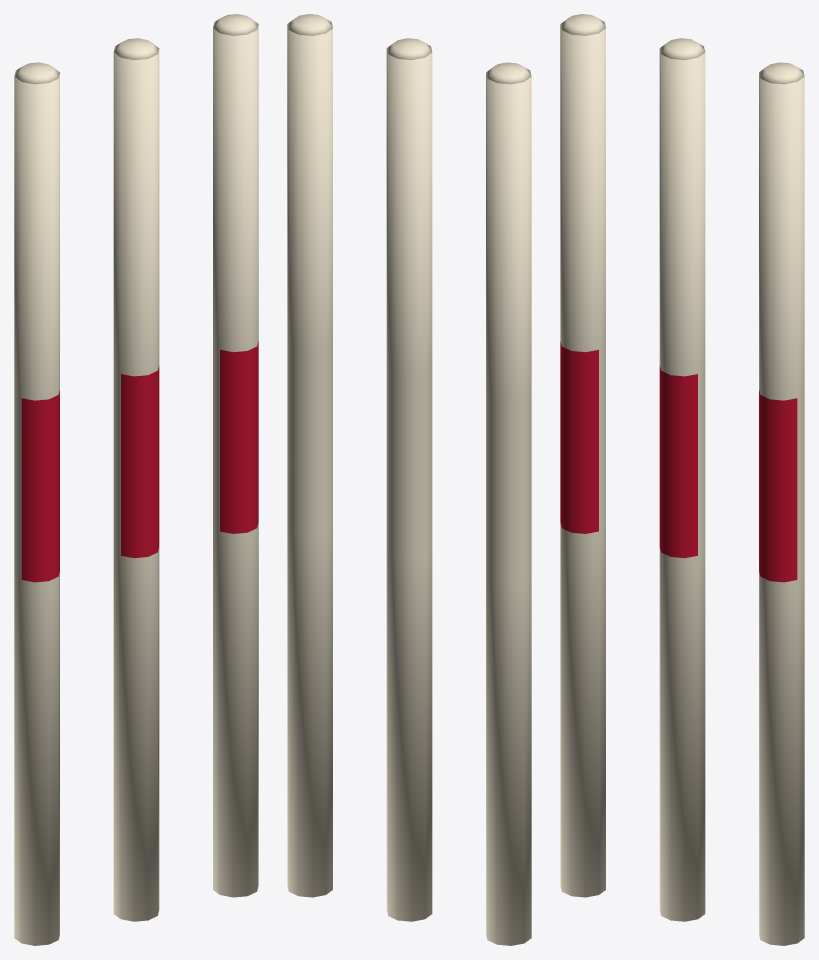
The model's file is stumps.glb.
The picture shows the model from 3 angles, left to right: view 1: azimuth 30°, elevation 25°; view 2: azimuth 150°, elevation 25°; view 3: azimuth 330°, elevation 25°; orthographic projection.
Parts seen in each view (by area): view 1: stump_middle, stump_leg, stump_off; view 2: stump_middle, stump_leg, stump_off; view 3: stump_middle, stump_off, stump_leg.
Boxes of the visible parts, x1,y1,x2,y2 form: stump_middle: (113,38,159,921); stump_leg: (213,14,258,897); stump_off: (14,62,59,945); stump_middle: (386,38,432,921); stump_leg: (287,14,332,897); stump_off: (486,62,531,945); stump_middle: (659,38,705,921); stump_off: (560,14,605,897); stump_leg: (759,62,804,945).
Bounding box in the file's own units: 0.2047 × 0.717 × 0.035.
Materials: 1 (1 with a texture image).
